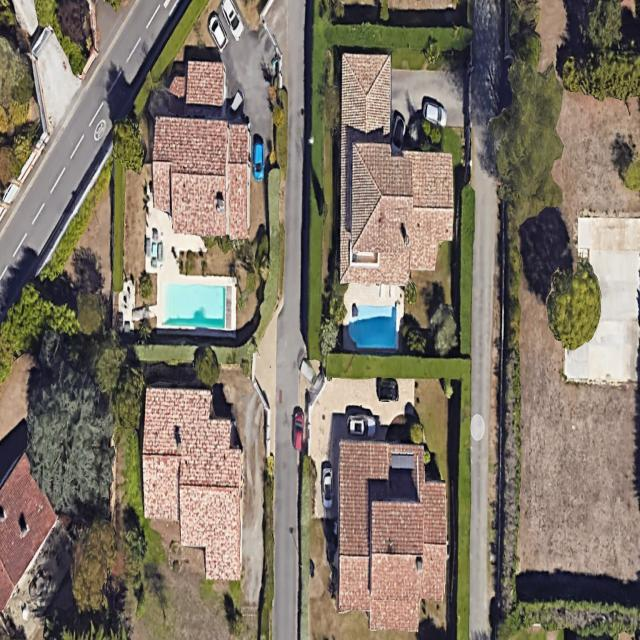maison: (339, 54, 454, 285), (336, 439, 450, 631), (138, 386, 246, 580), (151, 60, 253, 239), (0, 454, 56, 608)
